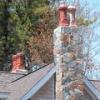chimneys: (12, 54, 26, 74)
